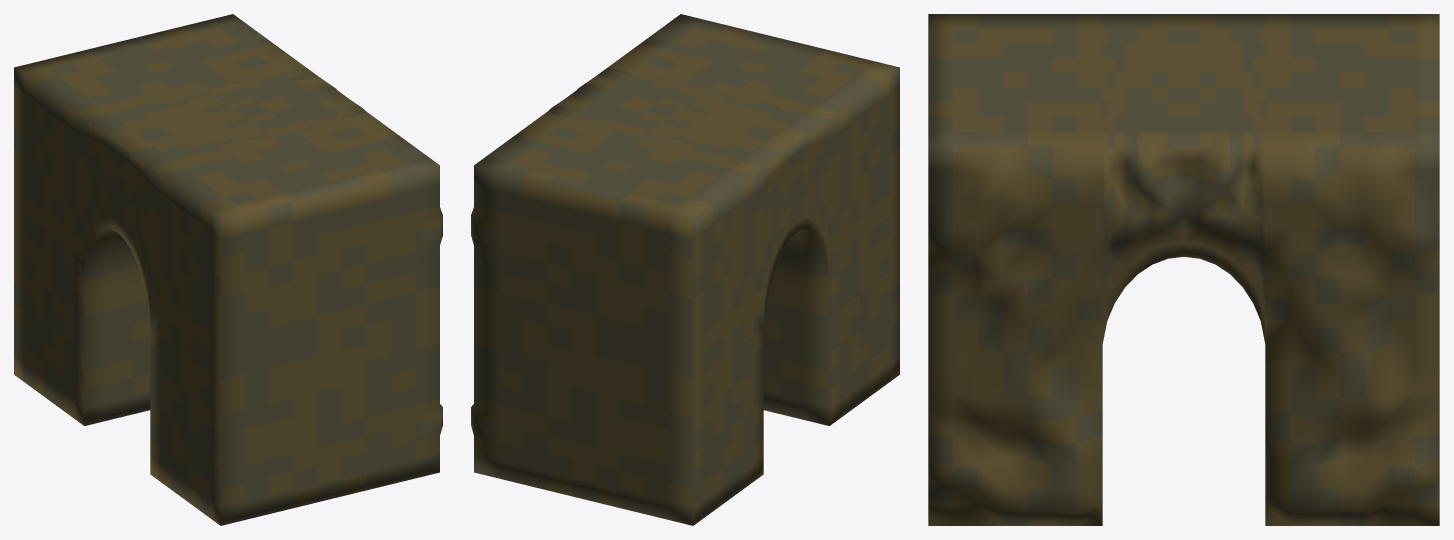
File: Bridge_Lumpy.fbx
The picture shows the model from 3 angles, left to right: view 1: azimuth 30°, elevation 25°; view 2: azimuth 150°, elevation 25°; view 3: azimuth 270°, elevation 25°; orthographic projection. The views are drawn at different scales.
Visible parts, largest first — view 1: Bridge_a_complex.004; view 2: Bridge_a_complex.004; view 3: Bridge_a_complex.004.
Part boxes in pixels (box(x1,y1,x2,y2)): Bridge_a_complex.004: box(14, 14, 442, 525); Bridge_a_complex.004: box(471, 14, 899, 525); Bridge_a_complex.004: box(928, 14, 1439, 525).
Bounding box in the file's own units: 5.85 × 9.02 × 7.39.
